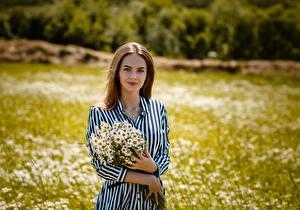chamomile: (95, 128, 141, 159)
